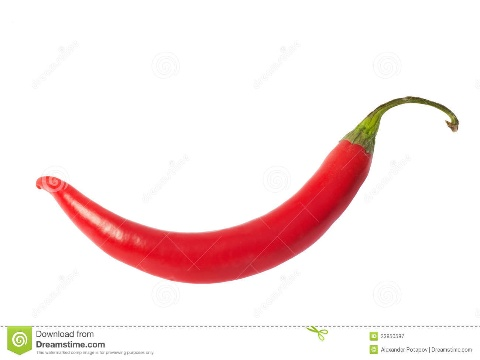Chilli: (21, 77, 464, 291)
